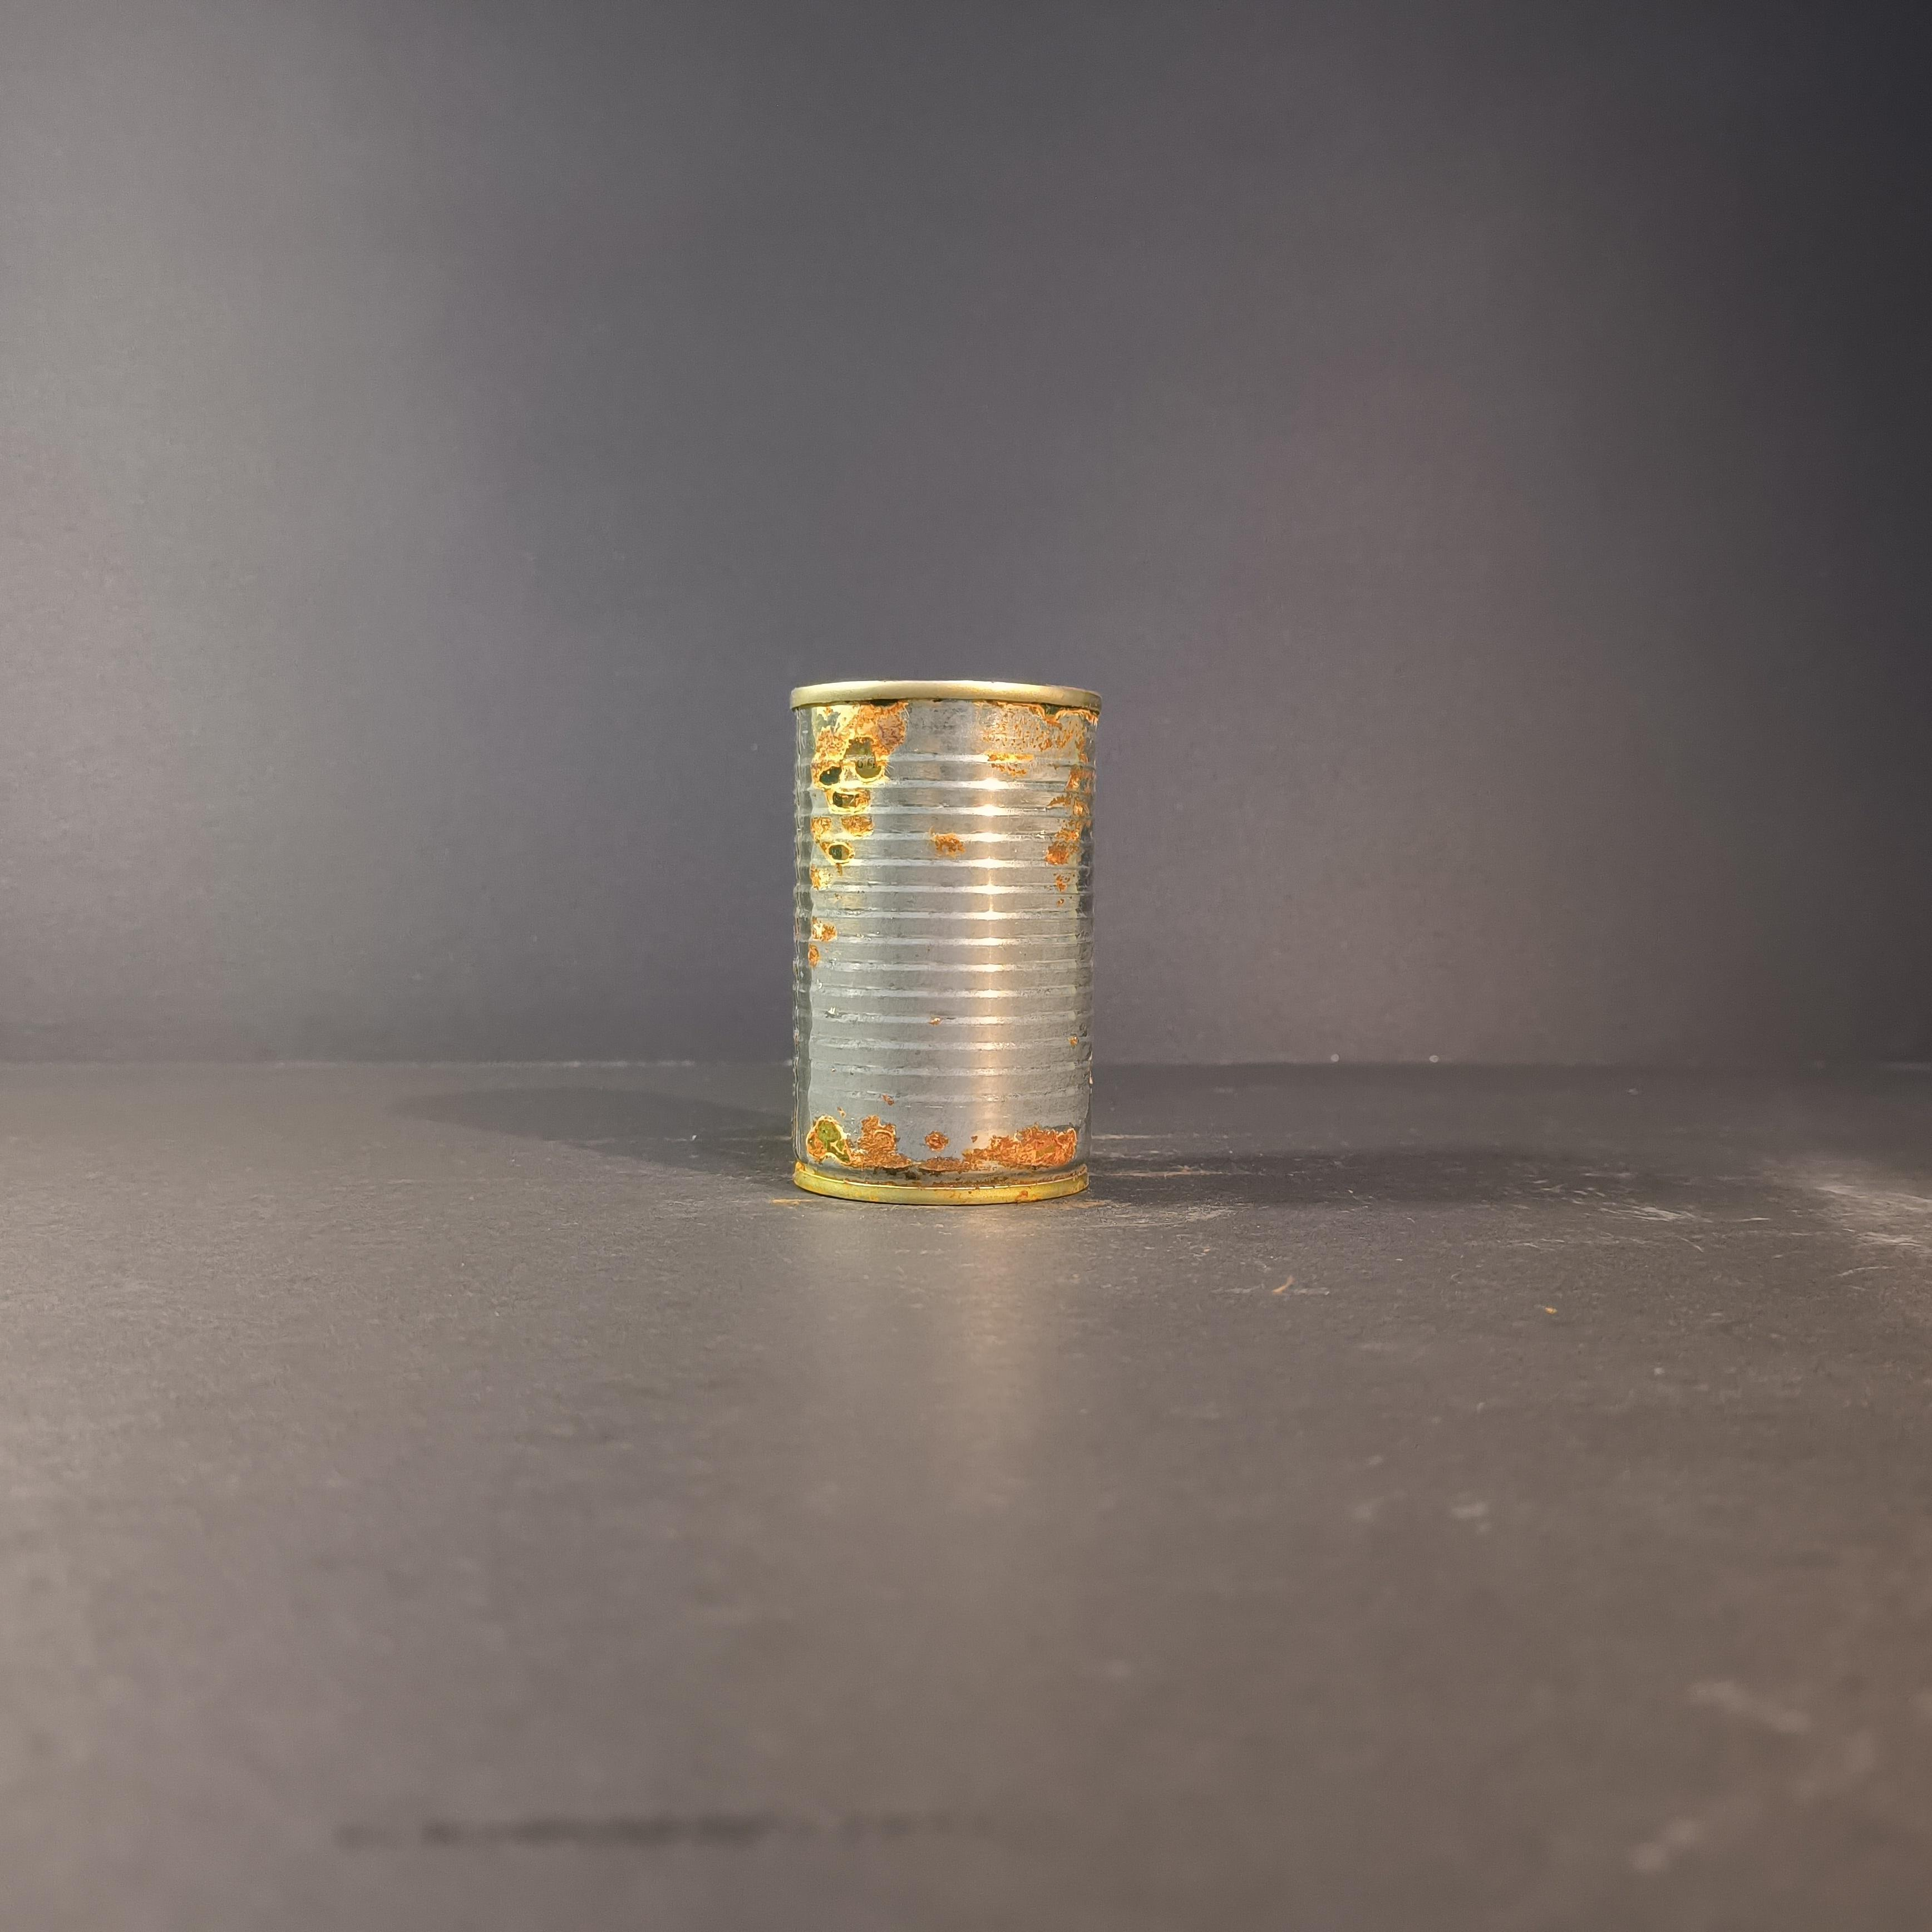Rusted: (773, 656, 1118, 1214)
